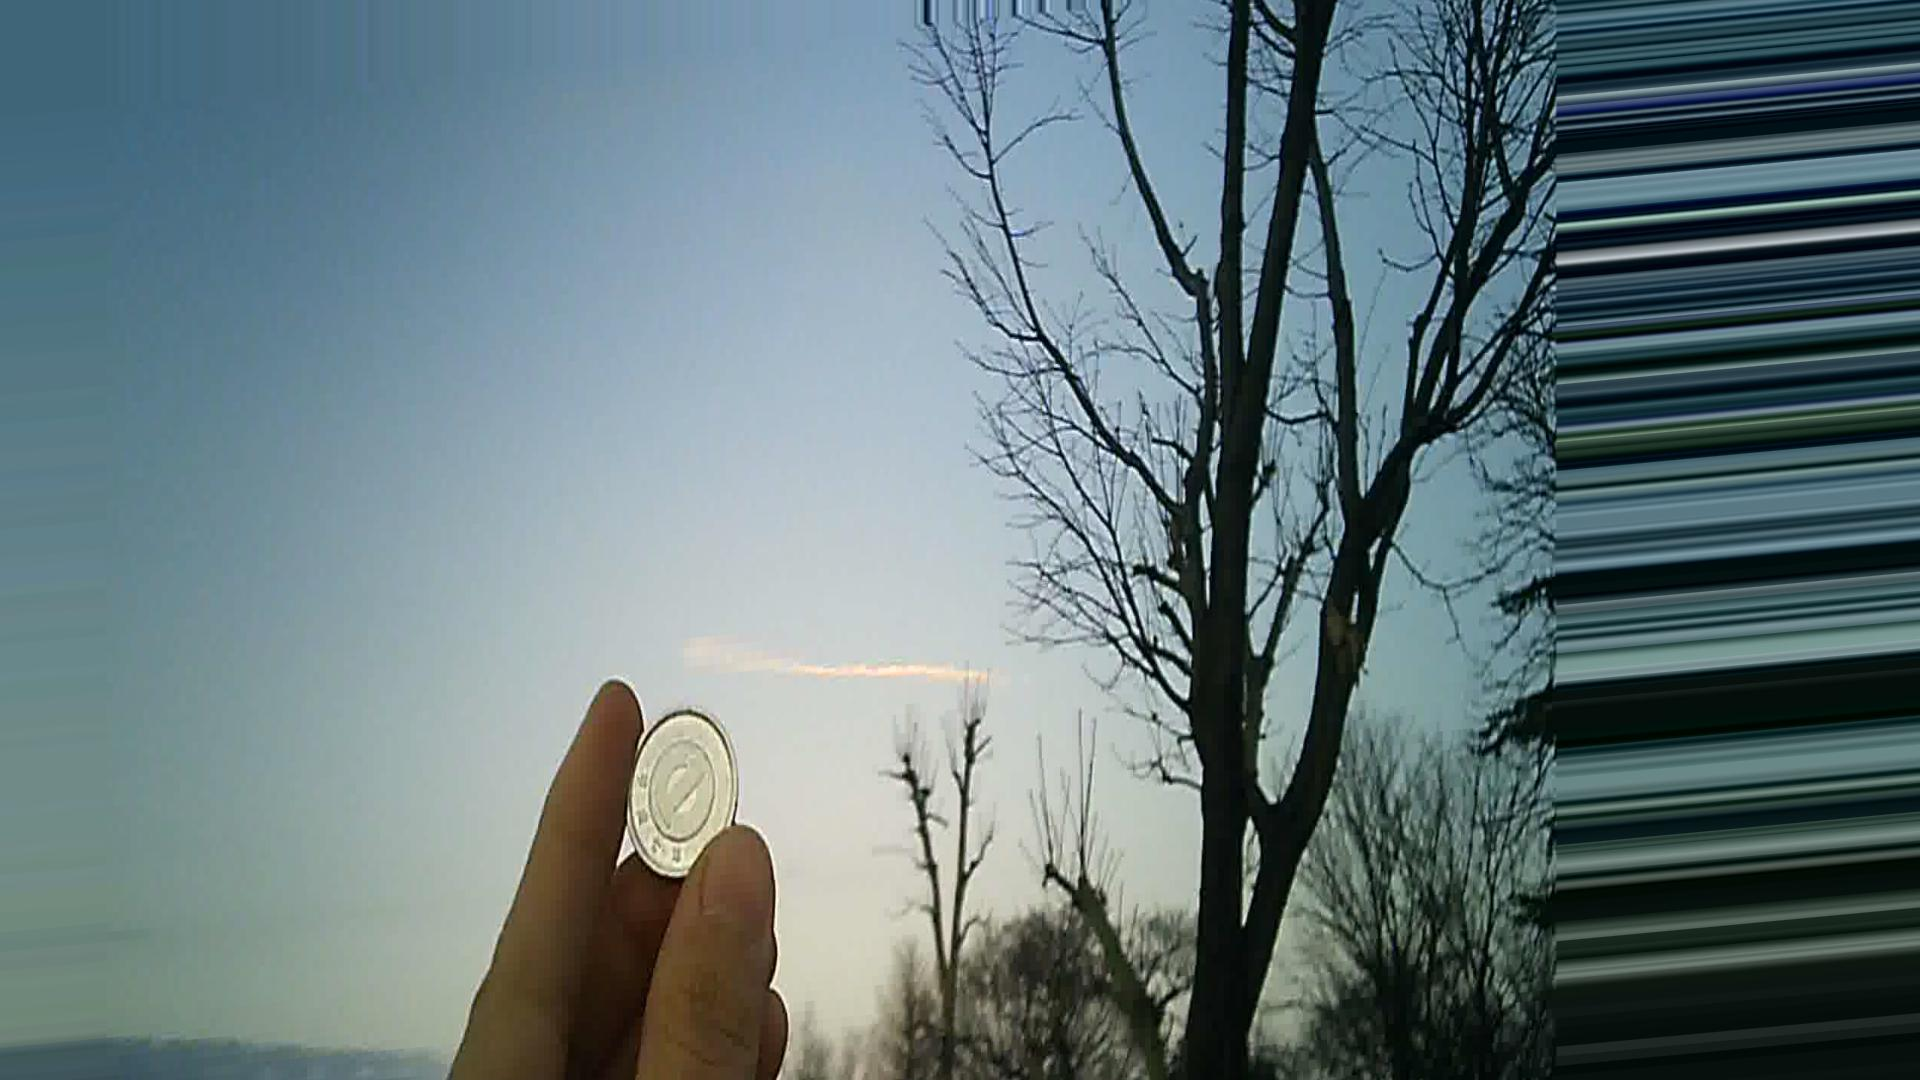1 Yen: (597, 705, 761, 889)
